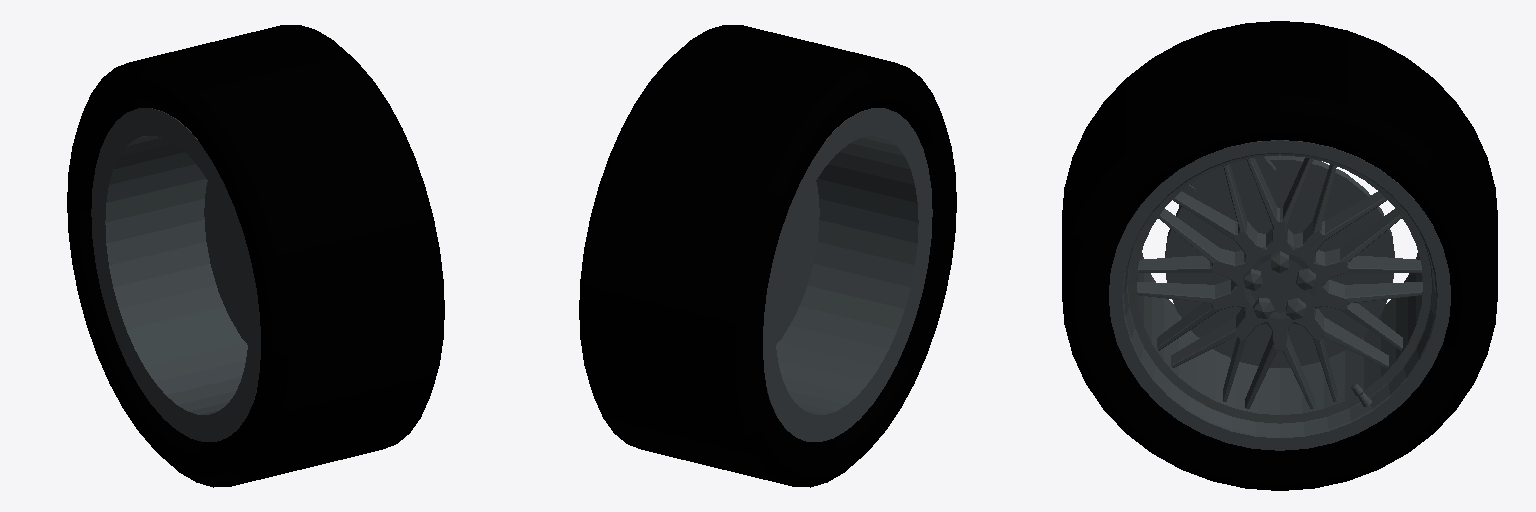
File: corvette_wheel.obj
3 renders of one model, left to right at view 1: azimuth 30°, elevation 25°; view 2: azimuth 150°, elevation 25°; view 3: azimuth 270°, elevation 25°, orthographic.
Visible parts, largest first — view 1: Mesh.001_Pneu03.000_Mesh.001_Pneu03.004, Mesh.001_Pneu03.006; view 2: Mesh.001_Pneu03.000_Mesh.001_Pneu03.004, Mesh.001_Pneu03.006; view 3: Mesh.001_Pneu03.000_Mesh.001_Pneu03.004, Mesh.001_Pneu03.006.
Part boxes in pixels (left/top/right/bottom): Mesh.001_Pneu03.000_Mesh.001_Pneu03.004: left=67, top=25, right=444, bottom=487; Mesh.001_Pneu03.006: left=91, top=108, right=260, bottom=441; Mesh.001_Pneu03.000_Mesh.001_Pneu03.004: left=579, top=25, right=956, bottom=487; Mesh.001_Pneu03.006: left=763, top=108, right=932, bottom=441; Mesh.001_Pneu03.000_Mesh.001_Pneu03.004: left=1062, top=21, right=1497, bottom=490; Mesh.001_Pneu03.006: left=1109, top=140, right=1450, bottom=450.
Size of the model in its own units: 1.15 by 2.53 by 2.53.